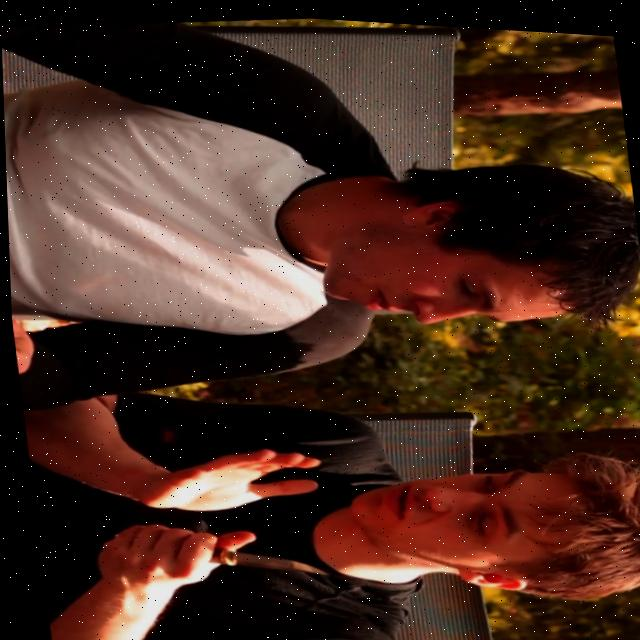knife: (203, 534, 327, 583)
